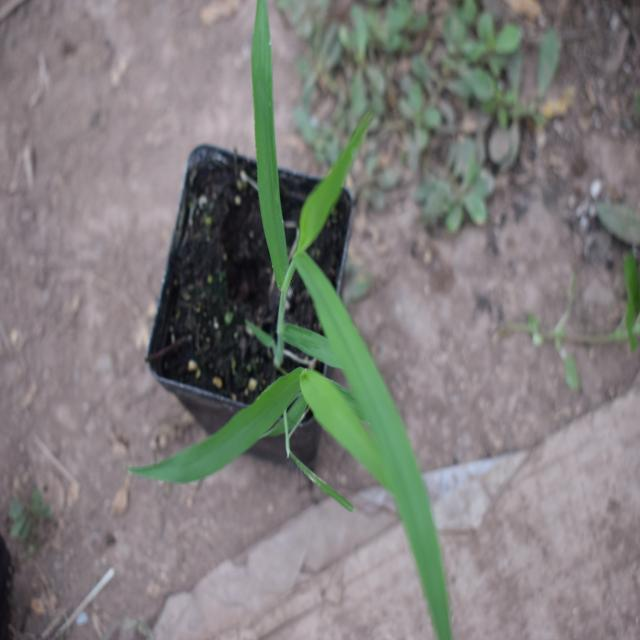crabgrass: (222, 61, 452, 610)
